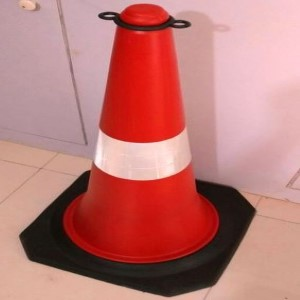traffic cone: (19, 3, 257, 297)
